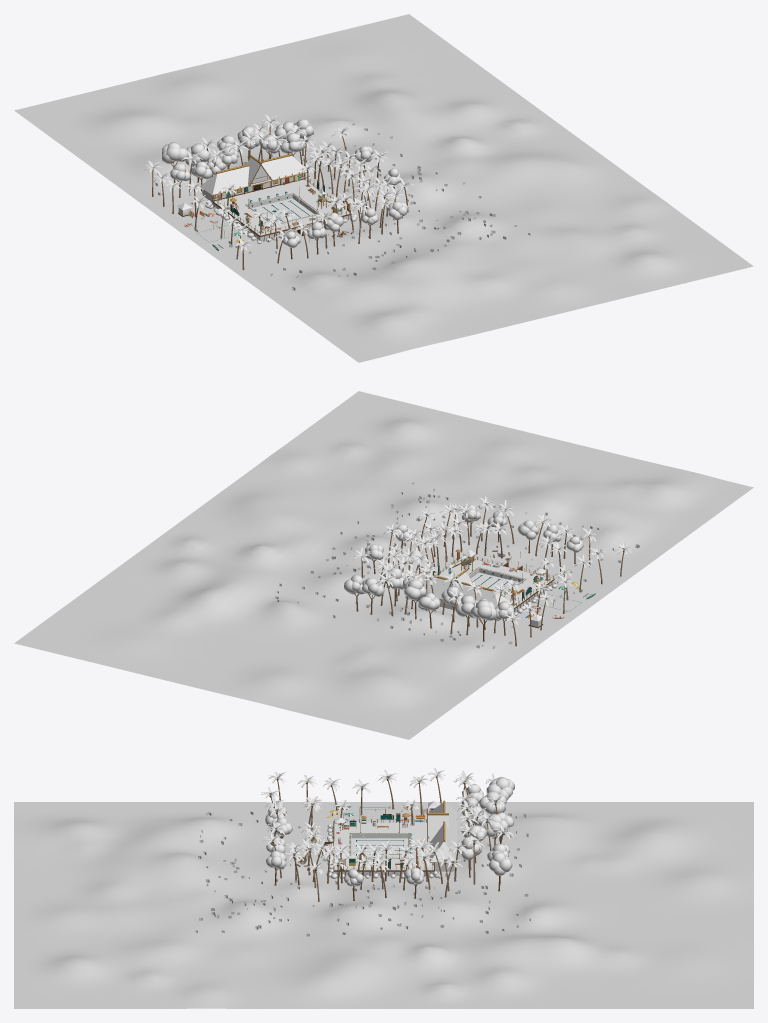
File: lagoon.glb
3 views of the same model, one above another, from view 1: azimuth 30°, elevation 25°; view 2: azimuth 150°, elevation 25°; view 3: azimuth 270°, elevation 25° (orthographic). The views are drawn at different scales.
Parts seen in each view (by area): view 1: S_tile_sand, S_cut, S_tile_canopy, S_matte, S_tile_boardwalk, S_tile_thatch, S_tile_glass_mosaic, S_satin; view 2: S_tile_sand, S_cut, S_tile_canopy, S_matte, S_tile_boardwalk, S_tile_thatch, S_tile_glass_mosaic; view 3: S_tile_sand, S_cut, S_tile_canopy, S_matte, S_tile_boardwalk, S_tile_thatch, S_tile_glass_mosaic, S_satin.
Boxes of the visible parts, x1=… form: S_tile_sand: x1=14, y1=14, x2=753, y2=362; S_cut: x1=144, y1=114, x2=530, y2=290; S_tile_canopy: x1=162, y1=119, x2=407, y2=247; S_matte: x1=152, y1=126, x2=408, y2=270; S_tile_boardwalk: x1=213, y1=179, x2=349, y2=235; S_tile_thatch: x1=177, y1=155, x2=343, y2=226; S_tile_glass_mosaic: x1=249, y1=195, x2=316, y2=223; S_satin: x1=184, y1=159, x2=342, y2=250; S_tile_sand: x1=14, y1=391, x2=753, y2=739; S_cut: x1=275, y1=482, x2=639, y2=648; S_tile_canopy: x1=344, y1=505, x2=583, y2=620; S_matte: x1=354, y1=507, x2=624, y2=646; S_tile_boardwalk: x1=437, y1=559, x2=553, y2=607; S_tile_thatch: x1=403, y1=550, x2=545, y2=621; S_tile_glass_mosaic: x1=469, y1=569, x2=522, y2=595; S_tile_sand: x1=14, y1=802, x2=753, y2=1008; S_cut: x1=195, y1=768, x2=530, y2=936; S_tile_canopy: x1=265, y1=777, x2=514, y2=886; S_matte: x1=269, y1=776, x2=503, y2=901; S_tile_boardwalk: x1=334, y1=822, x2=433, y2=870; S_tile_thatch: x1=334, y1=801, x2=457, y2=863; S_tile_glass_mosaic: x1=351, y1=834, x2=407, y2=857; S_satin: x1=296, y1=783, x2=502, y2=870.
Size of the model in its own units: 145 by 30.52 by 218.
